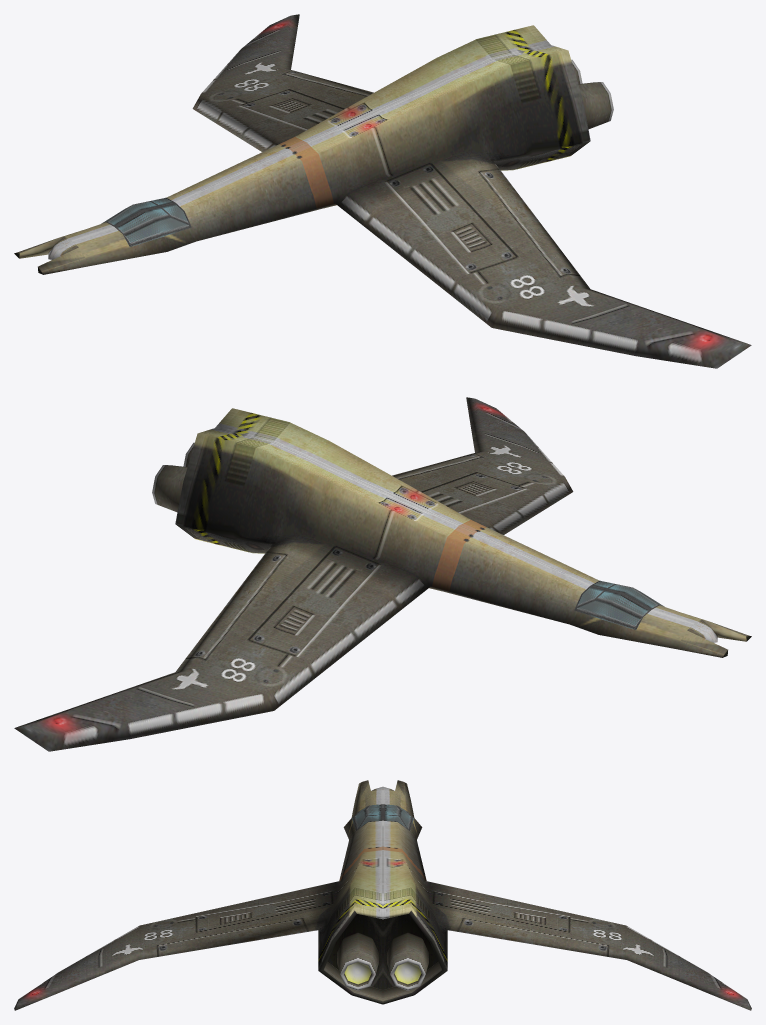
Rendered from spaceship01.obj.
3 views of the same model, one above another, from view 1: azimuth 30°, elevation 25°; view 2: azimuth 150°, elevation 25°; view 3: azimuth 270°, elevation 25° (orthographic). The views are drawn at different scales.
Visible parts, largest first — view 1: Frame0; view 2: Frame0; view 3: Frame0.
Part boxes in pixels (x1,y1,x2,y2): Frame0: [14, 14, 751, 368]; Frame0: [14, 397, 751, 751]; Frame0: [14, 780, 751, 1010].
Bounding box in the file's own units: 193 × 49.59 × 271.
Materials: 1 (1 with a texture image).
